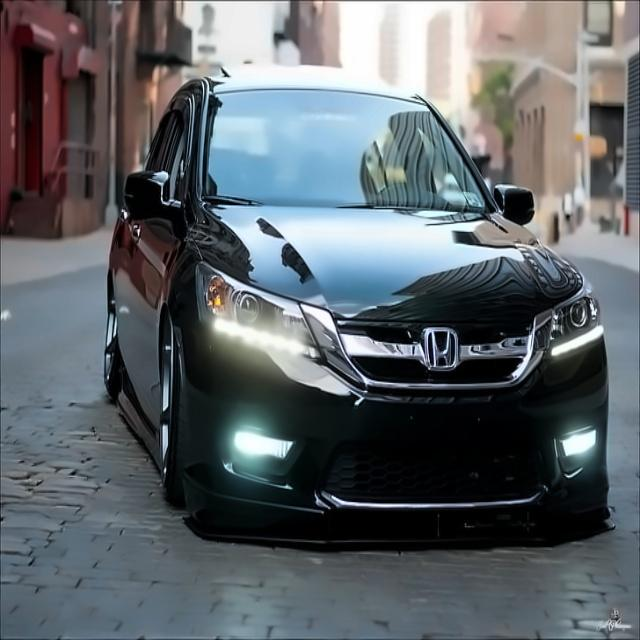Car hood: (186, 199, 591, 327)
Driver-s door - -F-R-: (124, 81, 196, 428)
Front bumper: (175, 367, 638, 558)
Headlight - -L-: (520, 281, 614, 359)
Headlight - -R-: (186, 253, 343, 369)
Side bumper - -R-: (103, 385, 183, 502)
Side mirror - -L-: (485, 176, 544, 231)
Side mirror - -R-: (116, 169, 185, 220)
